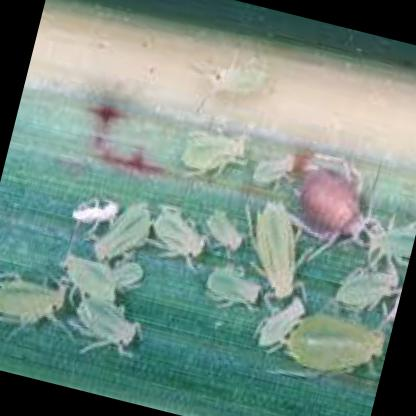schizaphis graminum: (286, 315, 381, 368), (256, 202, 293, 303), (0, 276, 62, 325), (149, 210, 207, 262), (179, 136, 250, 171), (210, 268, 259, 313), (63, 258, 114, 300), (338, 272, 393, 306)
